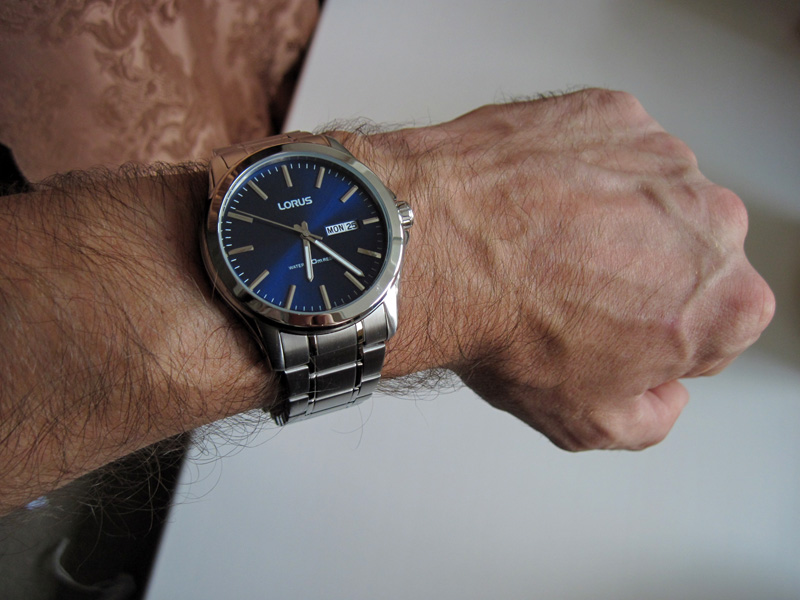clock: (203, 144, 411, 333)
